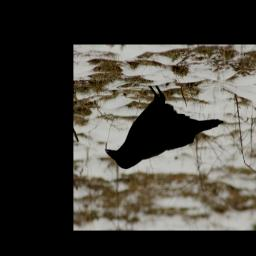Crow: (102, 83, 223, 174)
